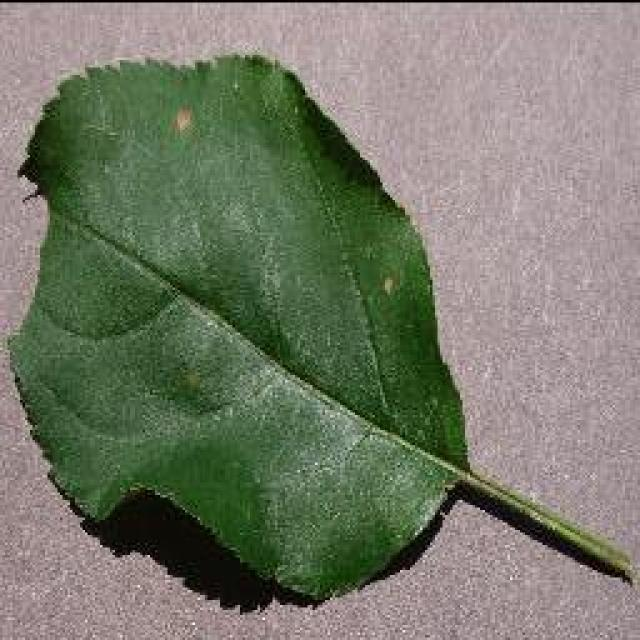Black_rot: (5, 50, 635, 605)
